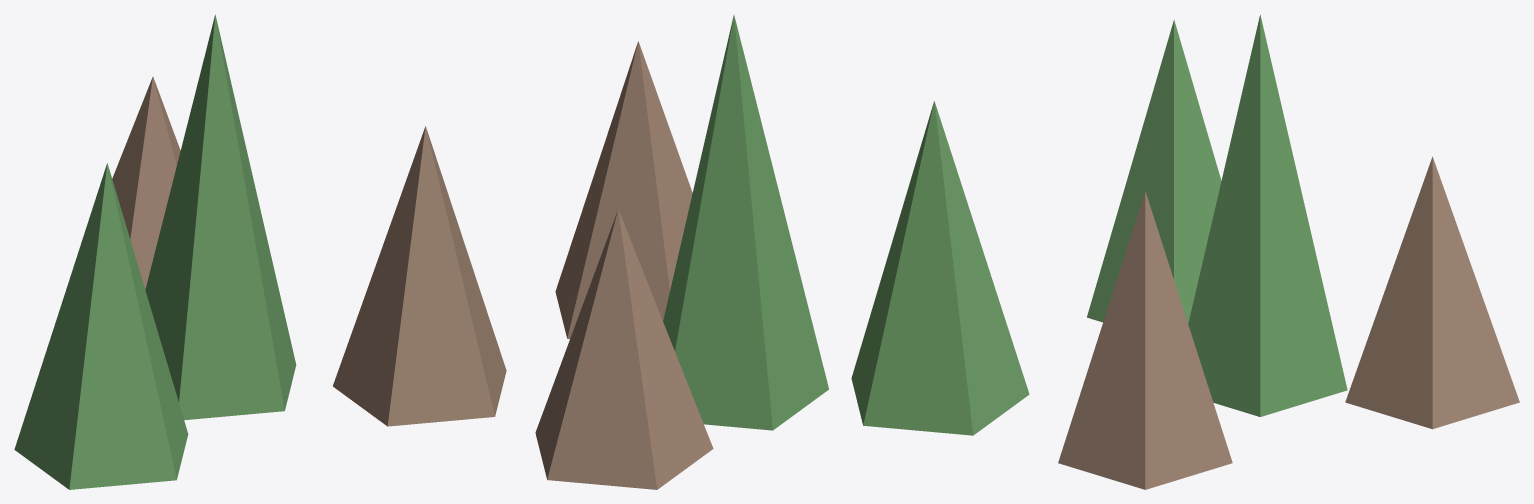
File: Scrub.glb
3 renders of one model, left to right at view 1: azimuth 30°, elevation 25°; view 2: azimuth 150°, elevation 25°; view 3: azimuth 270°, elevation 25°, orthographic. The views are drawn at different scales.
Visible parts, largest first — view 1: Scrub; view 2: Scrub; view 3: Scrub.
Part boxes in pixels (<box>): Scrub: <box>14,14,506,489</box>; Scrub: <box>535,15,1029,489</box>; Scrub: <box>1058,15,1519,489</box>.
Size of the model in its own units: 0.8894 by 0.7 by 0.8043.
